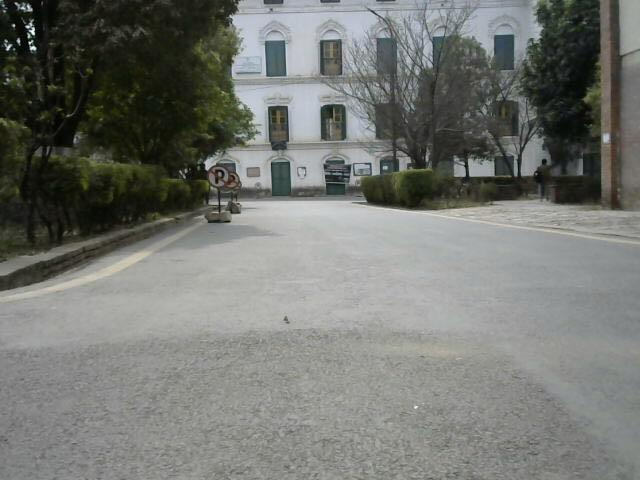Building: (229, 1, 360, 182)
Person: (533, 154, 552, 206)
Traffic sign: (39, 194, 640, 480), (201, 163, 238, 226)
Tree: (0, 0, 250, 188), (335, 11, 503, 159), (531, 0, 615, 144)
